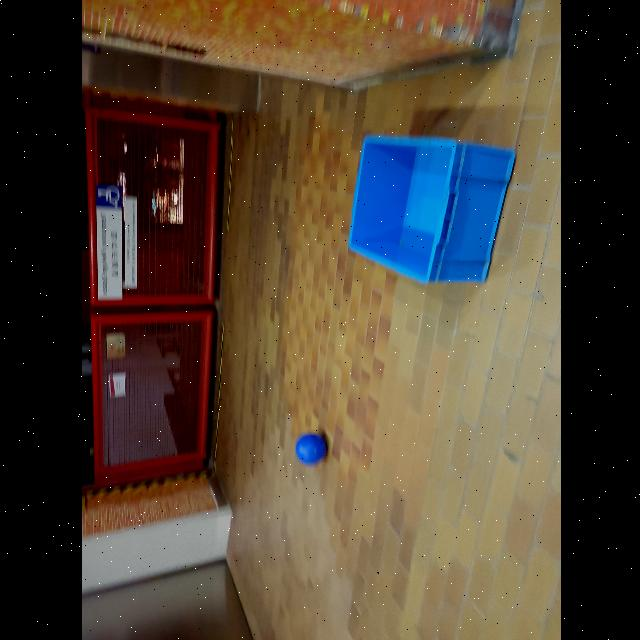B: (290, 434, 330, 464)
